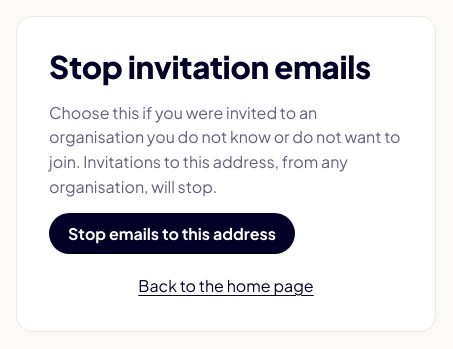
Test: StopEmails › does nothing until the person confirms (mail scanners open links), then opts out
The width and height of the screenshot is (453, 349).
Click the button "Stop emails to this address" at (172, 233), box [49, 212, 295, 254]
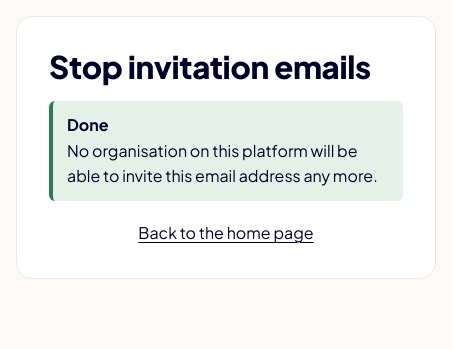
Result: the text "will be able to invite this email address" is shown at [67, 140, 378, 186]
